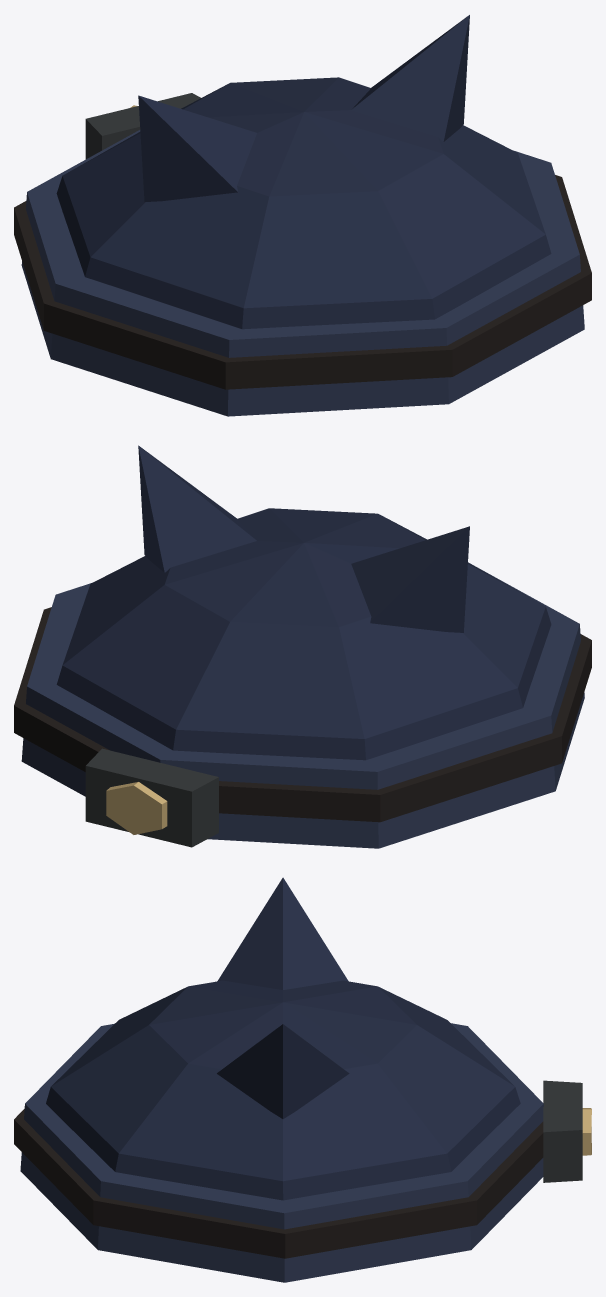
Rendered from hat_night_owl.glb.
The picture shows the model from 3 angles, top to bottom: view 1: azimuth 30°, elevation 25°; view 2: azimuth 150°, elevation 25°; view 3: azimuth 270°, elevation 25°; orthographic projection. The views are drawn at different scales.
Visible parts, largest first — view 1: Hat; view 2: Hat; view 3: Hat.
Part boxes in pixels (x1,y1,x2,y2): Hat: [14, 15, 591, 416]; Hat: [14, 445, 591, 848]; Hat: [14, 877, 591, 1282].
Bounding box in the file's own units: 0.4368 × 0.196 × 0.4655.
